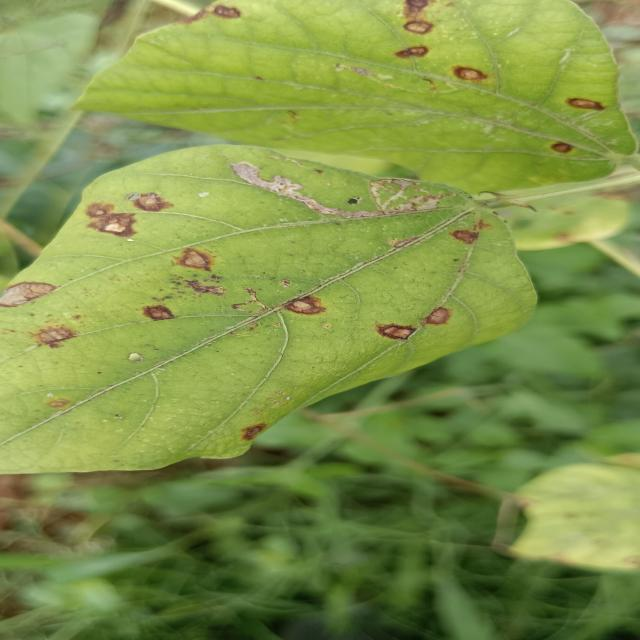Dolicos bean_cercospora leaf spot: (0, 144, 520, 477), (63, 0, 640, 191)
